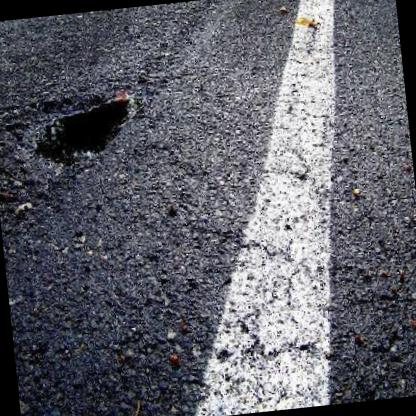pothole: (11, 80, 147, 193)
